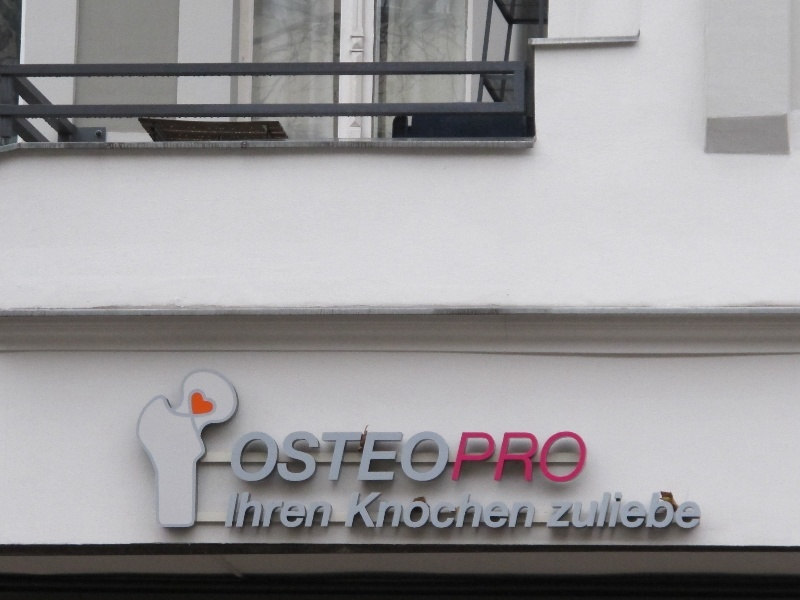text: (241, 432, 256, 485), (257, 432, 272, 485), (273, 432, 288, 485), (289, 432, 304, 485), (305, 432, 320, 485), (321, 432, 336, 485), (337, 432, 352, 485), (353, 432, 368, 485), (369, 432, 384, 485), (385, 432, 400, 485), (401, 432, 416, 485), (417, 432, 432, 485), (433, 432, 448, 485), (449, 432, 464, 485), (465, 432, 480, 485), (481, 432, 496, 485), (497, 432, 512, 485), (513, 432, 528, 485), (529, 432, 544, 485), (545, 432, 560, 485), (561, 432, 576, 485), (577, 432, 591, 485), (353, 492, 368, 531), (369, 492, 384, 531), (385, 492, 400, 531), (401, 492, 416, 531), (417, 492, 432, 531), (433, 492, 448, 531), (449, 492, 464, 531), (465, 492, 480, 531), (481, 492, 496, 531), (497, 492, 512, 531), (513, 492, 528, 531), (561, 492, 576, 531), (577, 492, 592, 531), (593, 492, 608, 531), (609, 492, 624, 531), (625, 492, 640, 531), (641, 492, 656, 531), (657, 492, 672, 531), (673, 492, 688, 531), (241, 492, 256, 530), (257, 492, 272, 530), (273, 492, 288, 530), (289, 492, 304, 530), (305, 492, 320, 530), (321, 492, 336, 530), (689, 492, 702, 531), (230, 492, 240, 530), (529, 492, 538, 531), (234, 432, 240, 485), (552, 492, 560, 531)
